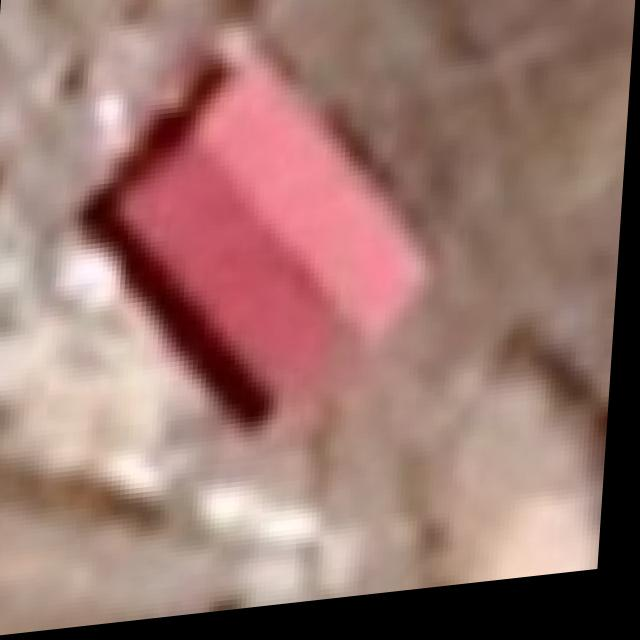Batiment: (86, 48, 428, 429)
